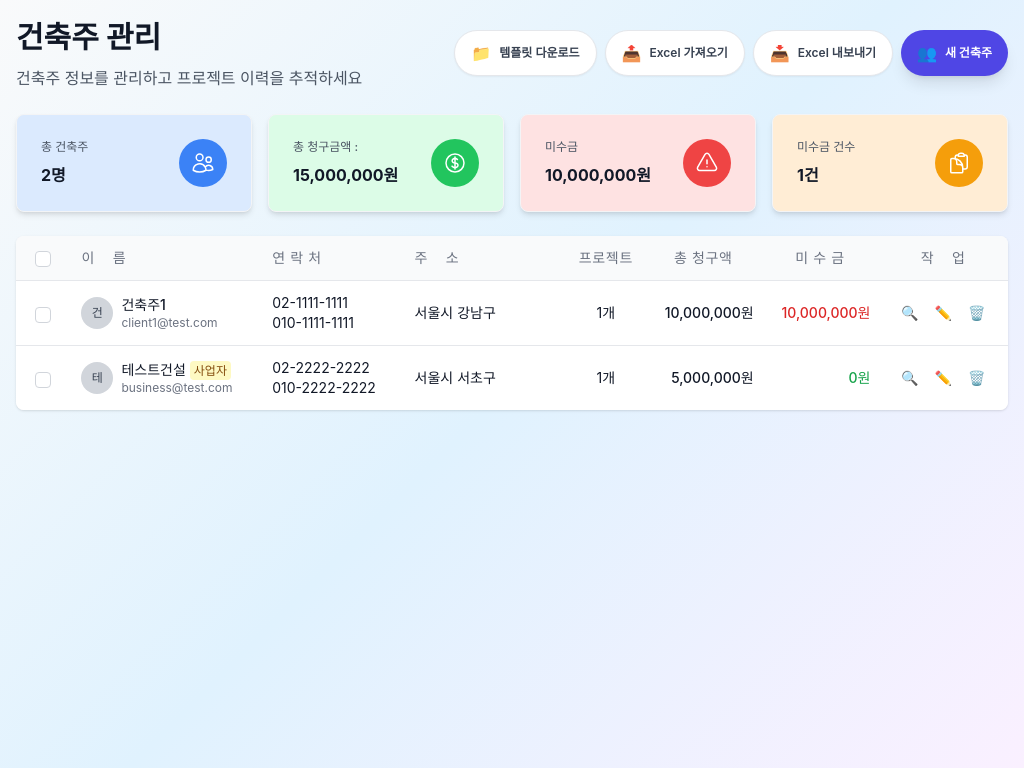
it: Clients Component › 건축주 편집 › 편집 버튼 클릭 시 편집 모달이 열림
Click the button titled "건축주 편집" in the row of "건축주1" at (943, 313), box [934,303,952,323]
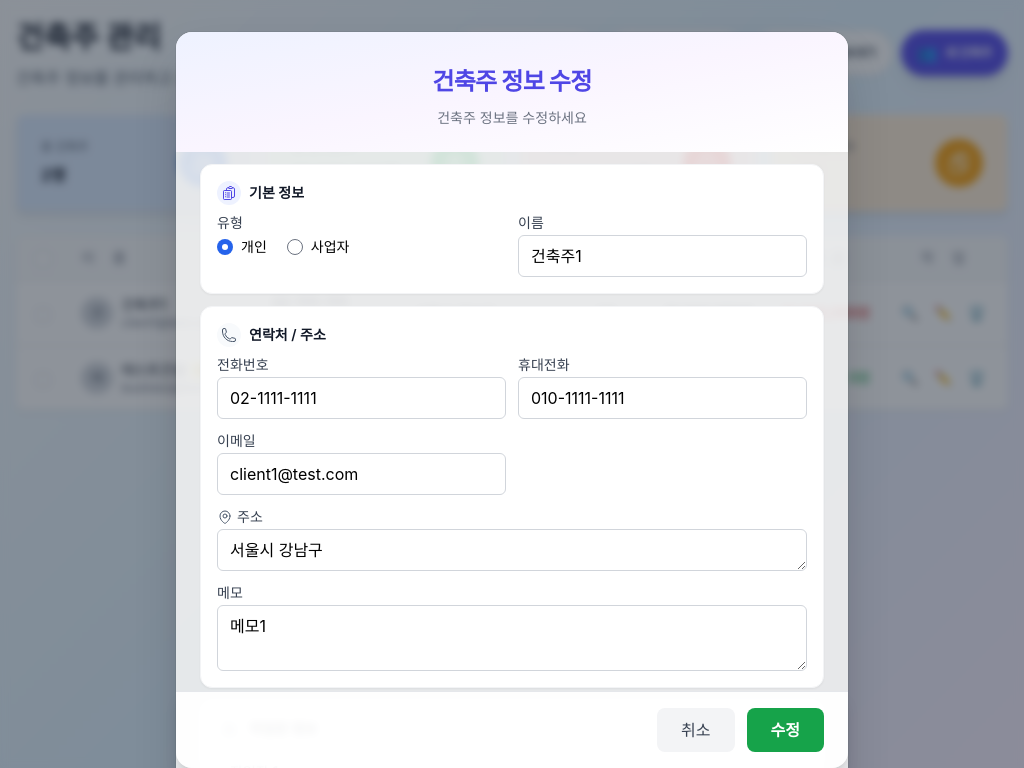
Check: the heading "건축주 정보 수정" is shown, box [432,67,592,96]
